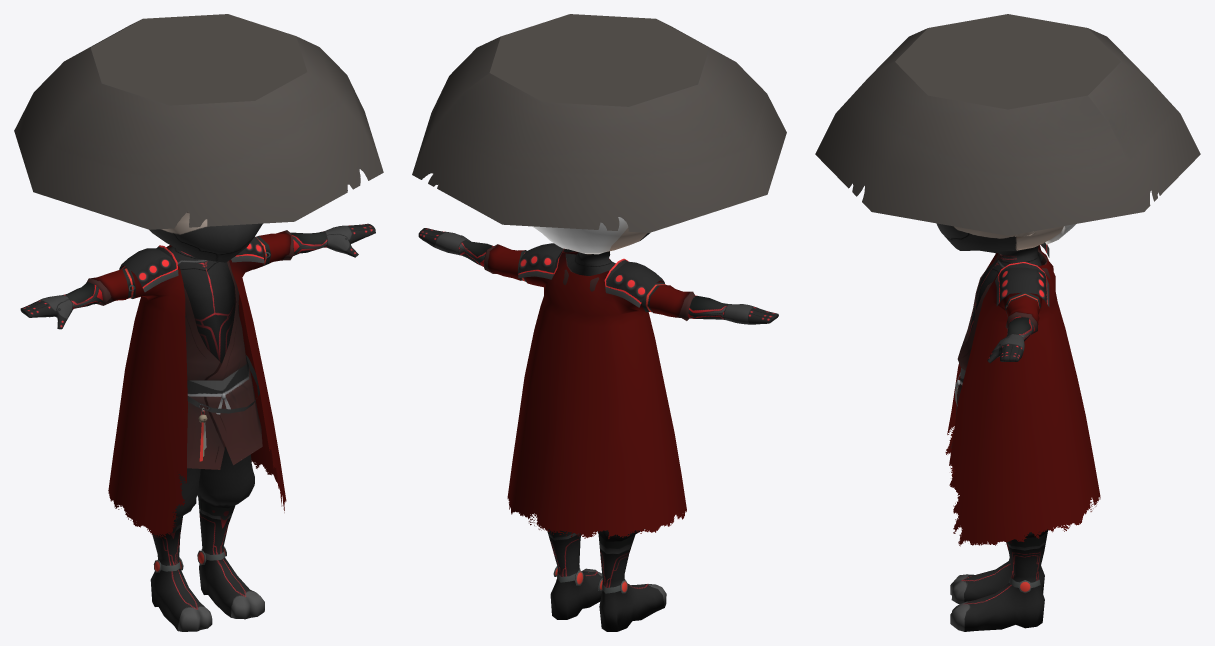
File: kaguraall.fbx
The picture shows the model from 3 angles, left to right: view 1: azimuth 30°, elevation 25°; view 2: azimuth 150°, elevation 25°; view 3: azimuth 270°, elevation 25°; orthographic projection.
Visible parts, largest first — view 1: back1, body; view 2: back1, body; view 3: back1, body.
Part boxes in pixels (x1=…): back1: x1=14, y1=14, x2=383, y2=572; body: x1=149, y1=211, x2=264, y2=631; back1: x1=412, y1=14, x2=786, y2=593; body: x1=532, y1=217, x2=666, y2=631; back1: x1=815, y1=14, x2=1200, y2=593; body: x1=936, y1=223, x2=1075, y2=631.
Size of the model in its own units: 5.82 by 8.72 by 5.55.
